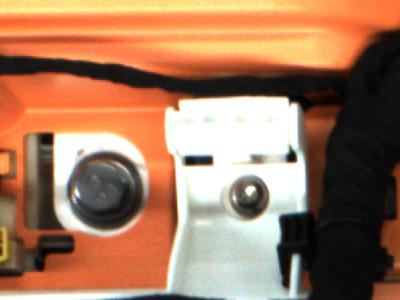nut_b: (66, 155, 148, 222)
